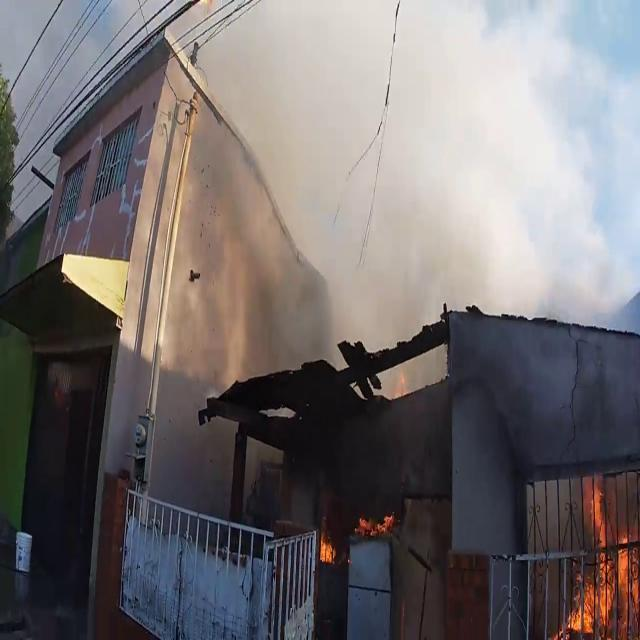Fire: (570, 471, 639, 634), (318, 530, 336, 566)
Smoke: (321, 36, 554, 372)
